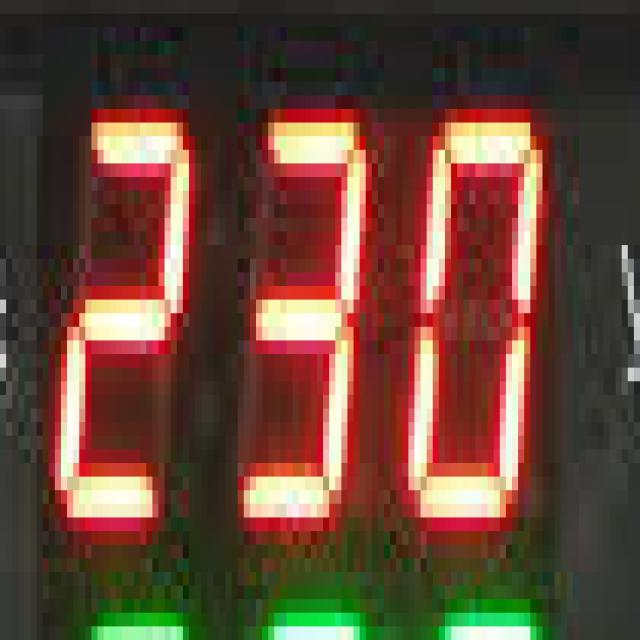0: (394, 98, 556, 536)
2: (32, 74, 196, 560)
3: (232, 85, 367, 555)
screen: (30, 60, 568, 579)
